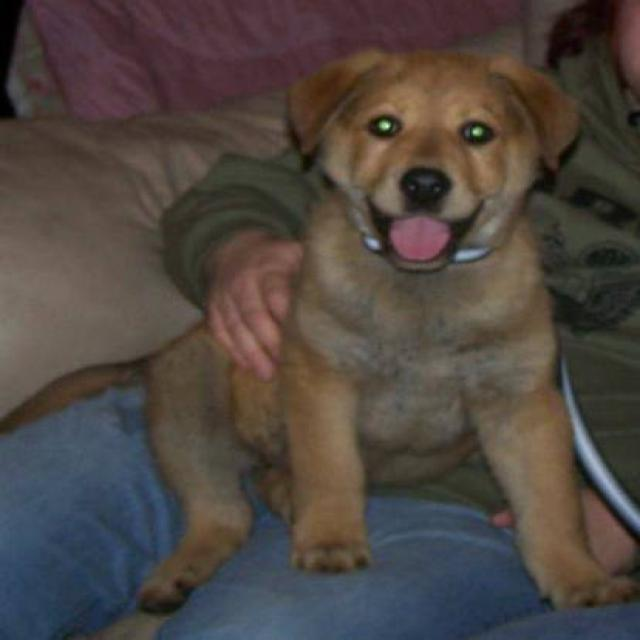Dog: (287, 31, 585, 282)
